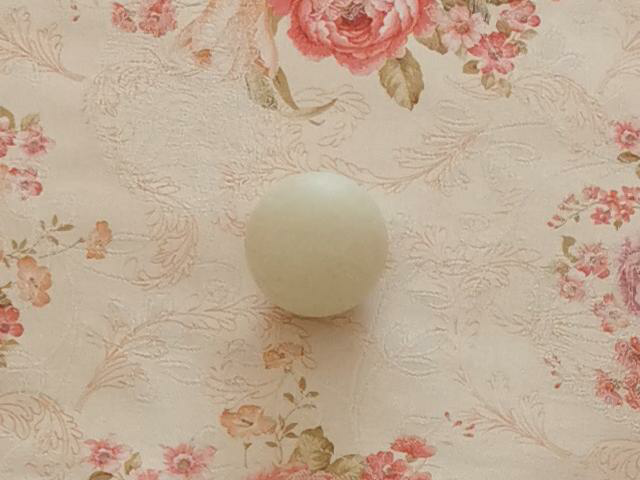ball: (249, 173, 388, 316)
